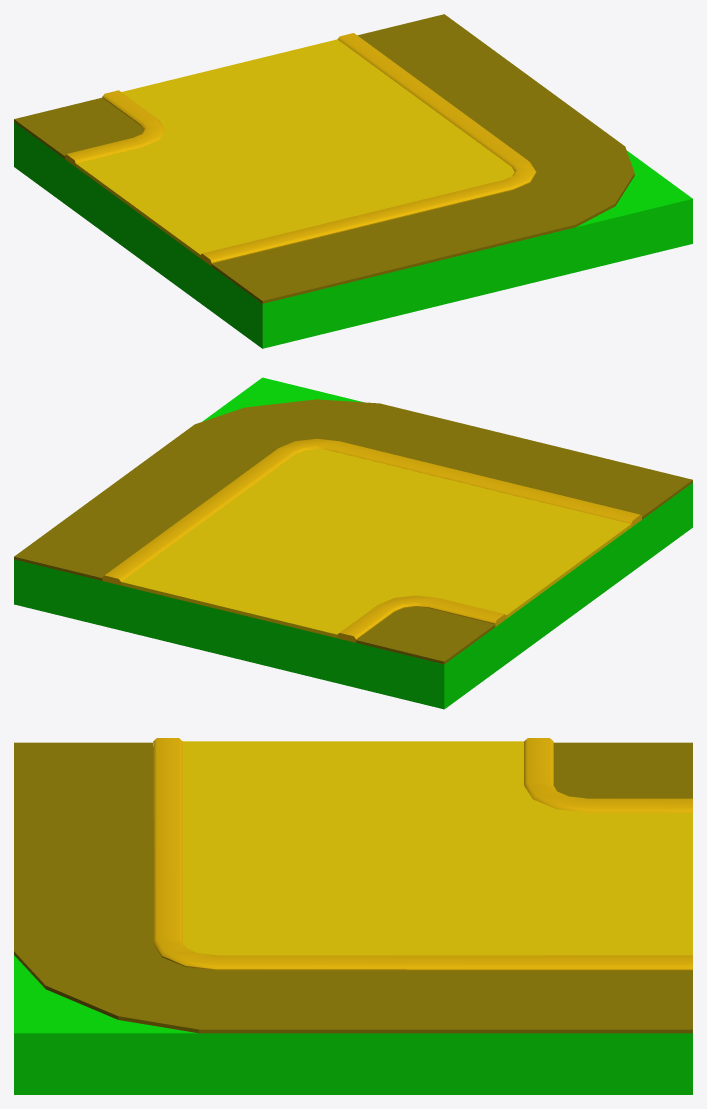
File: LStreet_SM.fbx
The picture shows the model from 3 angles, top to bottom: view 1: azimuth 30°, elevation 25°; view 2: azimuth 150°, elevation 25°; view 3: azimuth 270°, elevation 25°; orthographic projection. The views are drawn at different scales.
Visible parts, largest first — view 1: LStreet; view 2: LStreet; view 3: LStreet.
Boxes of the visible parts, bbox=[...] form: LStreet: bbox=[14, 14, 692, 348]; LStreet: bbox=[14, 377, 692, 709]; LStreet: bbox=[14, 738, 692, 1094].
Size of the model in its own units: 100 by 11.35 by 100.
